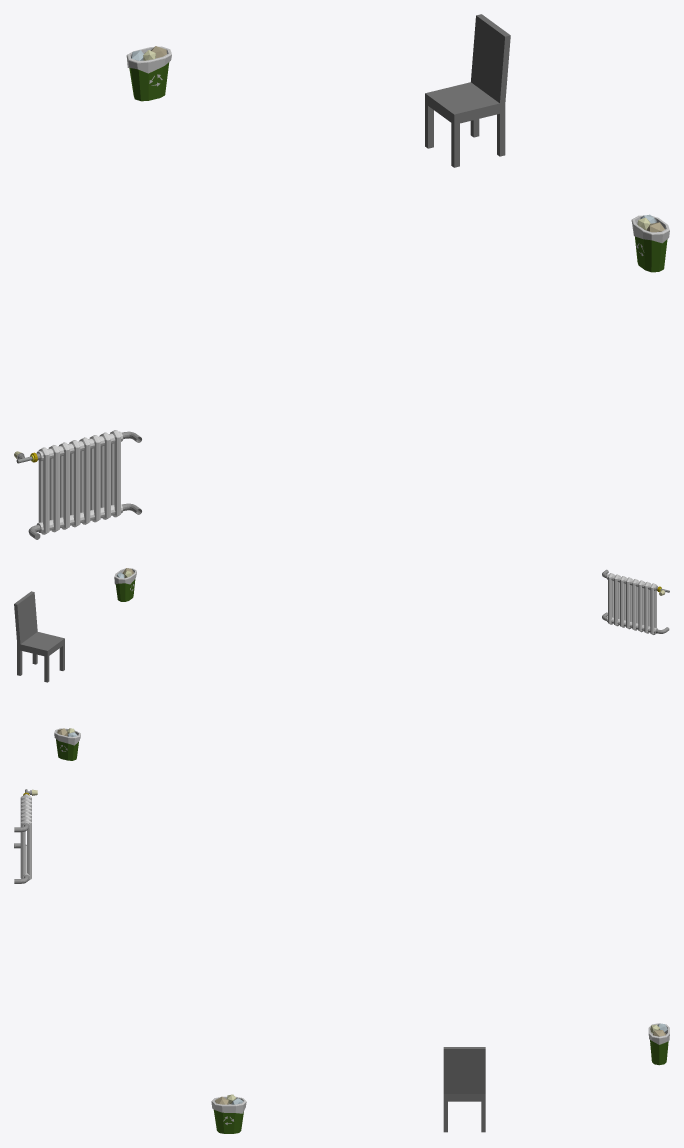
3 views of the same model, one above another, from view 1: azimuth 30°, elevation 25°; view 2: azimuth 150°, elevation 25°; view 3: azimuth 270°, elevation 25° (orthographic). The views are drawn at different scales.
Visible parts, largest first — view 1: Deko_2x2 campus I; view 2: Deko_2x2 campus I; view 3: Deko_2x2 campus I.
Part boxes in pixels (x1,y1,x2,y2): Deko_2x2 campus I: (14, 14, 669, 539); Deko_2x2 campus I: (14, 568, 669, 760); Deko_2x2 campus I: (14, 789, 669, 1133).
Size of the model in its own units: 7.94 by 1.14 by 7.98.
1 material, 1 textured.
